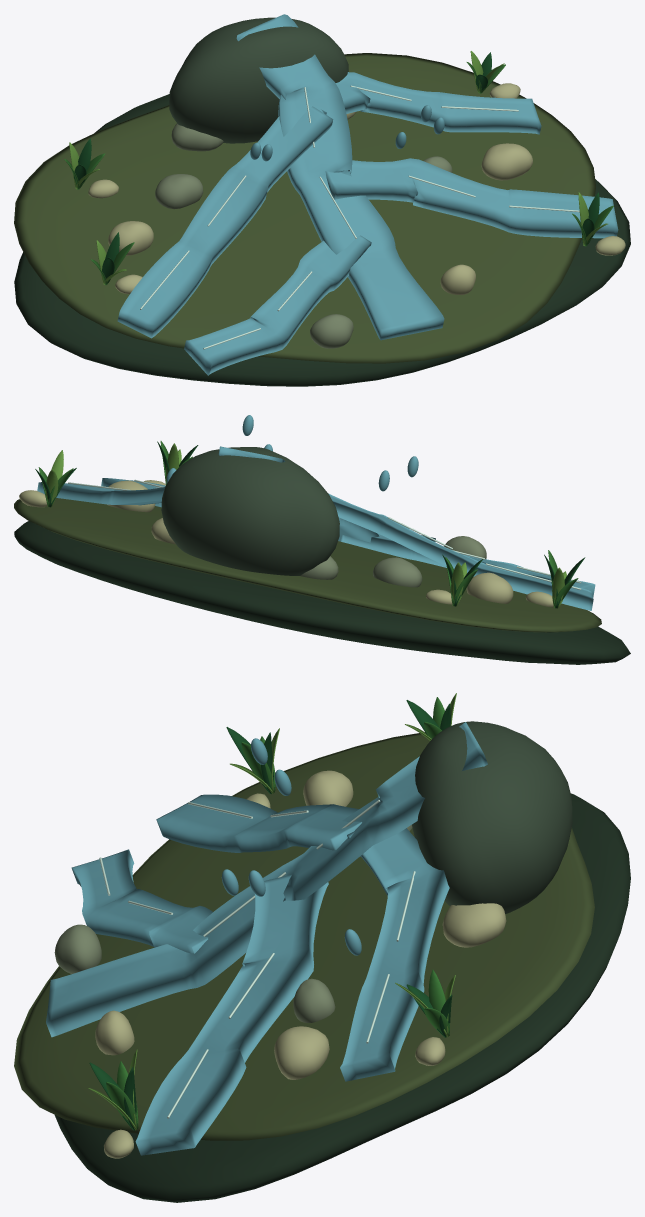
File: water.glb
The picture shows the model from 3 angles, top to bottom: view 1: azimuth 30°, elevation 25°; view 2: azimuth 150°, elevation 25°; view 3: azimuth 270°, elevation 25°; orthographic projection. The views are drawn at different scales.
Parts seen in each view (by area): view 1: water_surface_01, water_surface_03, water_surface_00, water_surface_02, water_surface_06, water_surface_05, water_surface_09, water_surface_04, water_surface_08, water_surface_07; view 2: water_surface_00, water_surface_01, water_surface_02, water_surface_03, water_surface_06, water_surface_05, water_surface_08, water_surface_07, water_surface_09, water_surface_04; view 3: water_surface_01, water_surface_03, water_surface_00, water_surface_02, water_surface_06, water_surface_05, water_surface_07, water_surface_09, water_surface_04, water_surface_08.
Part boxes in pixels (left/top/right/bottom): water_surface_01: left=14, top=53, right=595, bottom=363; water_surface_03: left=117, top=14, right=618, bottom=375; water_surface_00: left=14, top=94, right=630, bottom=386; water_surface_02: left=169, top=17, right=348, bottom=143; water_surface_06: left=88, top=83, right=625, bottom=294; water_surface_05: left=155, top=123, right=452, bottom=348; water_surface_09: left=74, top=52, right=599, bottom=284; water_surface_04: left=140, top=85, right=579, bottom=349; water_surface_08: left=69, top=51, right=607, bottom=284; water_surface_07: left=64, top=62, right=613, bottom=285; water_surface_00: left=14, top=521, right=630, bottom=664; water_surface_01: left=14, top=498, right=601, bottom=632; water_surface_02: left=161, top=447, right=339, bottom=575; water_surface_03: left=37, top=415, right=595, bottom=610; water_surface_06: left=19, top=480, right=553, bottom=607; water_surface_05: left=300, top=536, right=486, bottom=587; water_surface_08: left=45, top=443, right=566, bottom=608; water_surface_07: left=38, top=441, right=578, bottom=608; water_surface_09: left=35, top=441, right=585, bottom=608; water_surface_04: left=68, top=479, right=581, bottom=589; water_surface_01: left=14, top=733, right=594, bottom=1140; water_surface_03: left=46, top=722, right=487, bottom=1155; water_surface_00: left=54, top=793, right=630, bottom=1202; water_surface_02: left=412, top=721, right=572, bottom=914; water_surface_06: left=95, top=770, right=506, bottom=1158; water_surface_05: left=54, top=825, right=412, bottom=1022; water_surface_07: left=106, top=697, right=449, bottom=1128; water_surface_09: left=89, top=700, right=452, bottom=1130; water_surface_04: left=99, top=800, right=415, bottom=1118; water_surface_08: left=88, top=693, right=456, bottom=1130.
Bounding box in the file's own units: 4.63 × 1.85 × 3.07.
